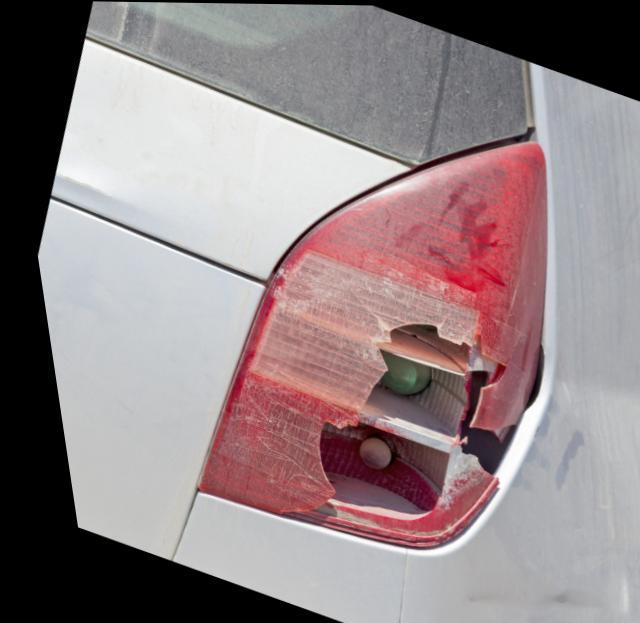lamp broken: (179, 135, 541, 548)
